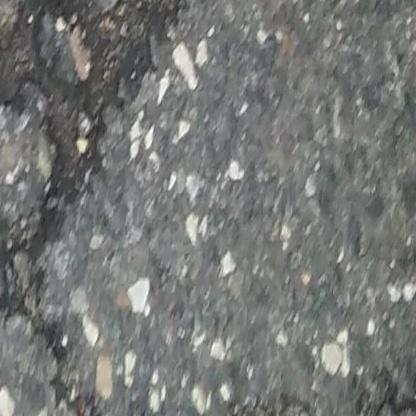Cracks: (0, 0, 198, 416), (188, 392, 342, 416), (351, 360, 416, 416)
